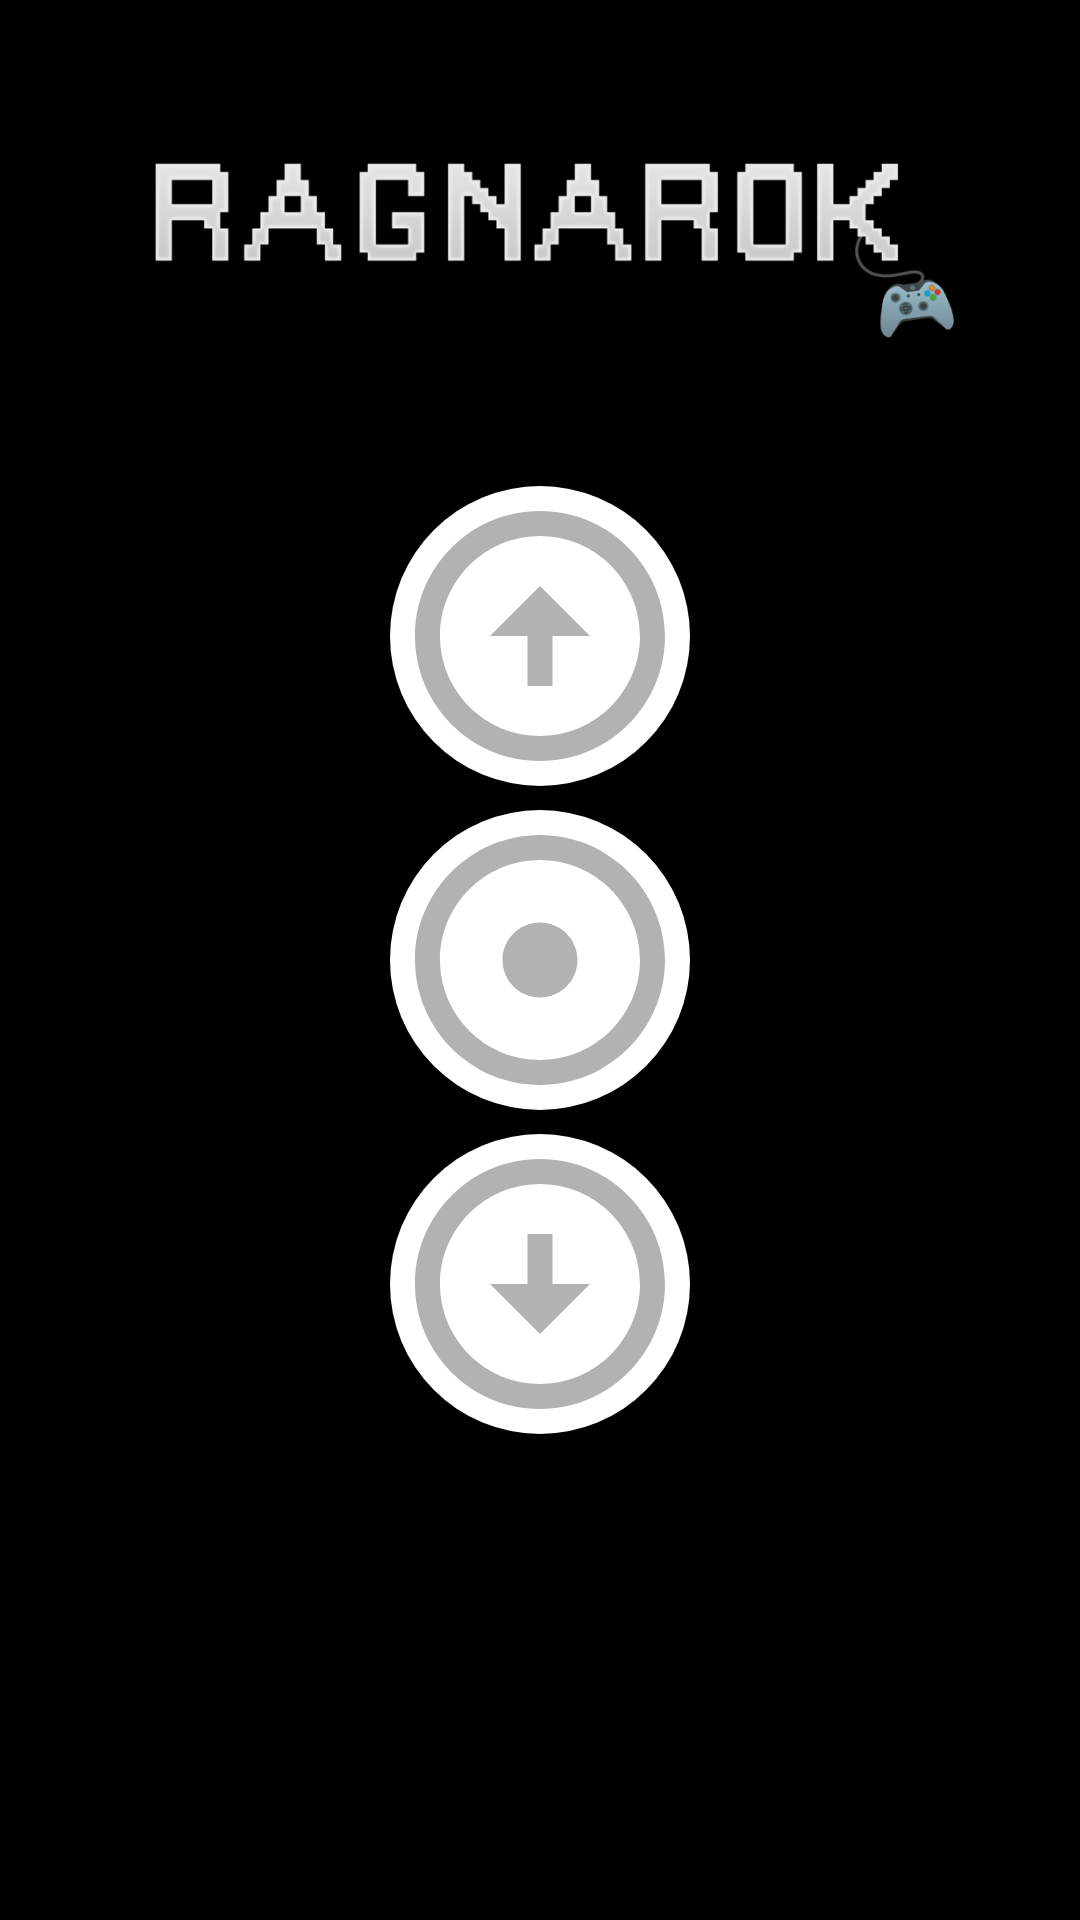

Named icons in this screenshot (1080 x 1920) and their bounding boxes, detection(x1, y1, x2, y2):
arrow down: detection(390, 1134, 690, 1434)
arrow up: detection(390, 486, 690, 786)
select: detection(390, 810, 690, 1110)
